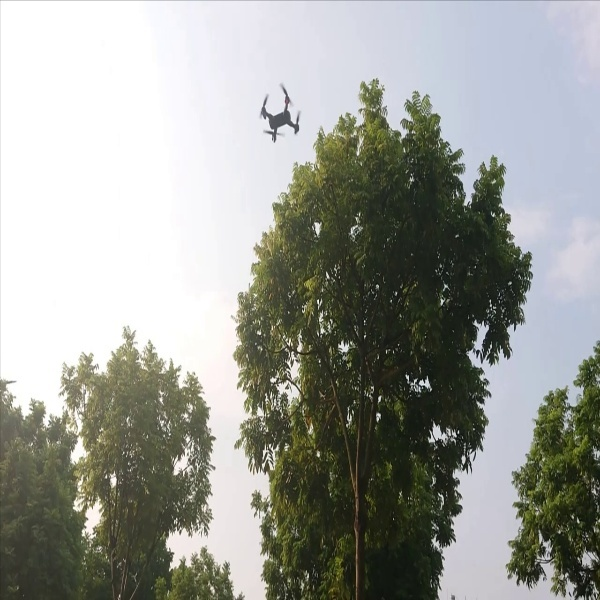drone: (254, 81, 310, 150)
